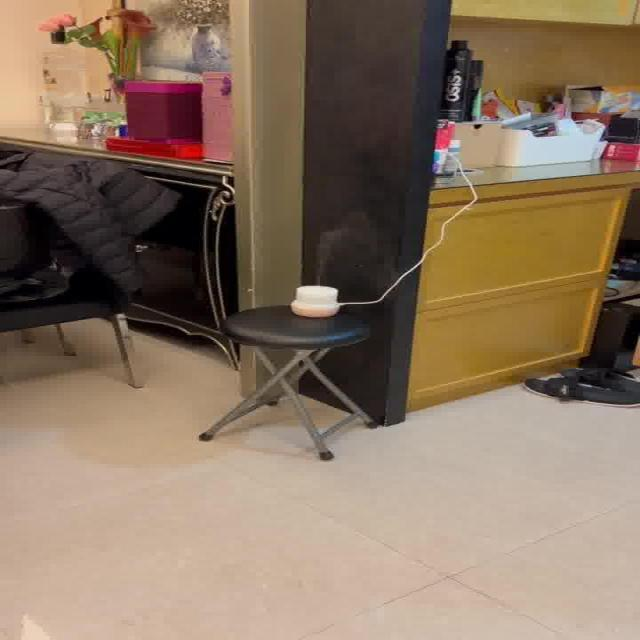fire: (314, 220, 378, 280)
